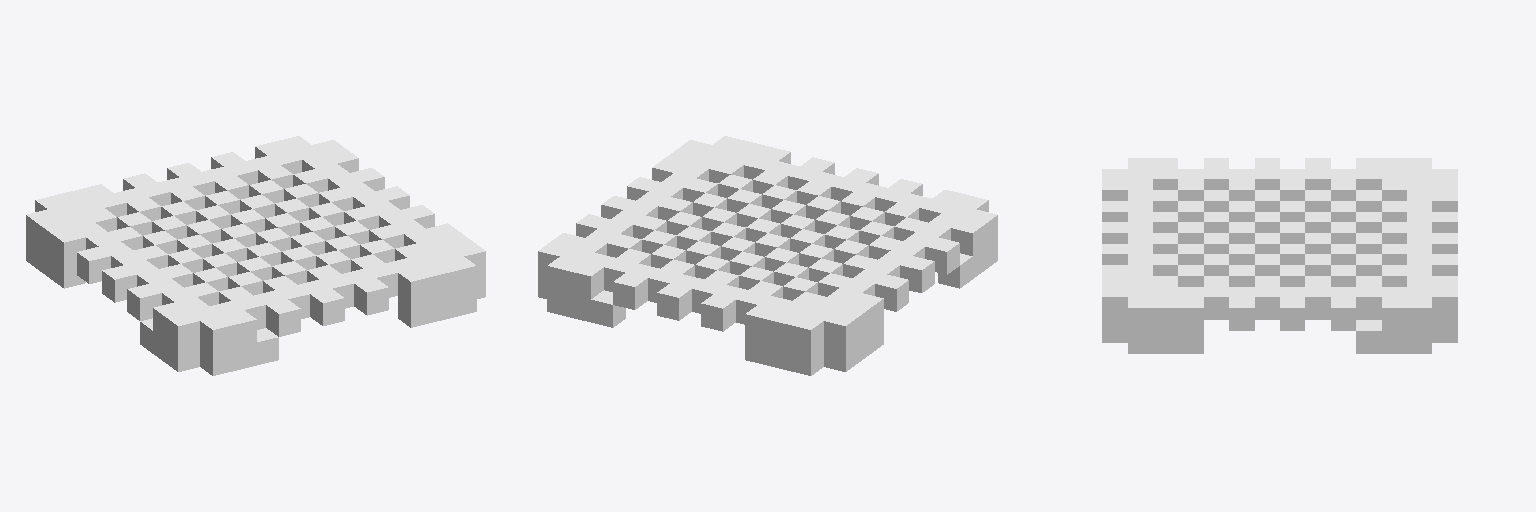
The model's file is grate_yp.obj.
3 renders of one model, left to right at view 1: azimuth 30°, elevation 25°; view 2: azimuth 150°, elevation 25°; view 3: azimuth 270°, elevation 25°, orthographic.
Bounding box in the file's own units: 14 × 2 × 14.